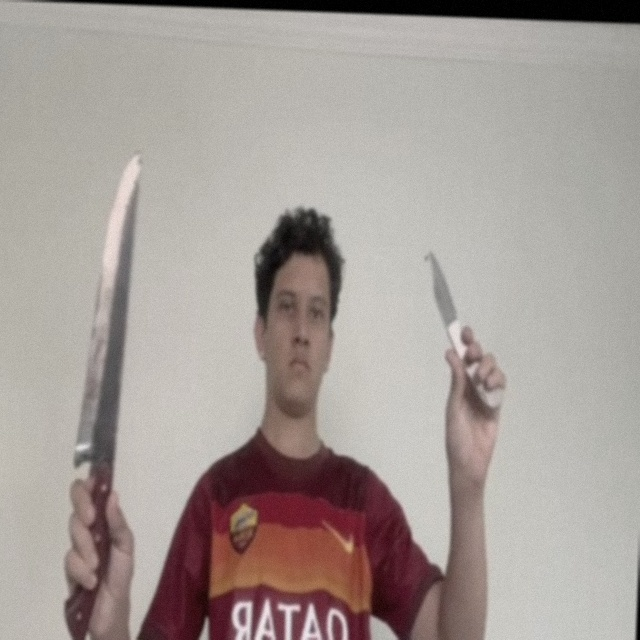Sharp-Object: (73, 145, 145, 471), (425, 248, 459, 325)
